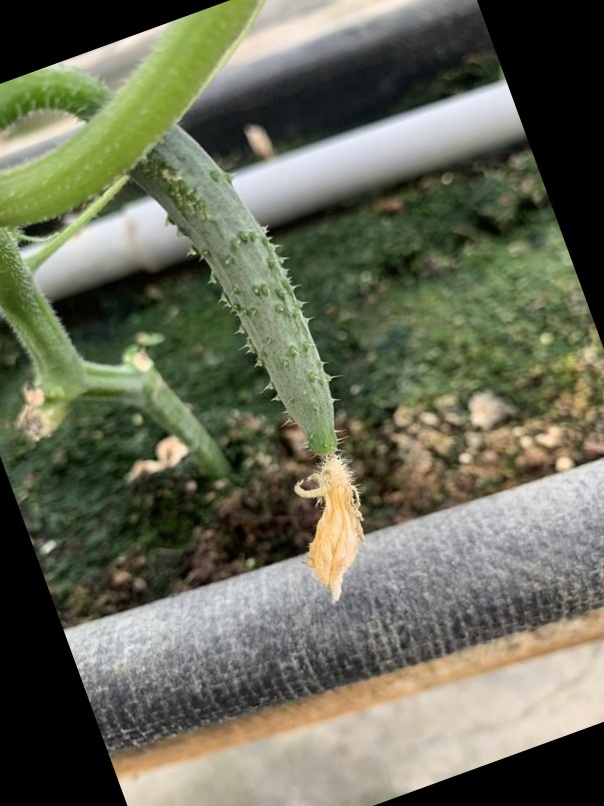growth: (115, 126, 387, 567)
